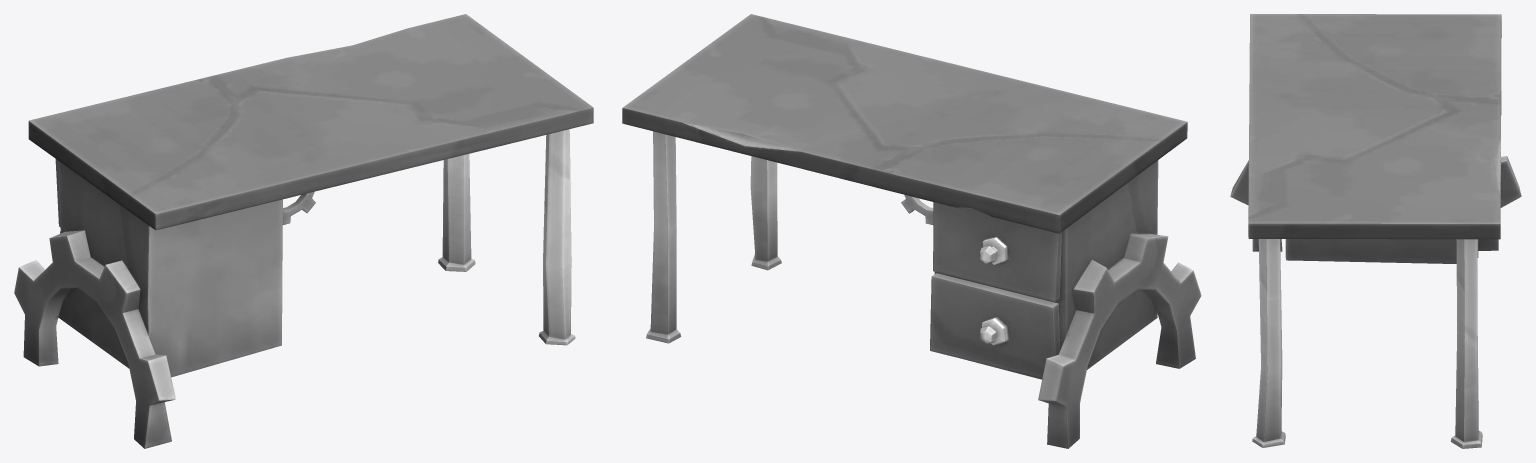
Rendered from obj_table01_alt.gltf.
3 views of the same model, side by side, from view 1: azimuth 30°, elevation 25°; view 2: azimuth 150°, elevation 25°; view 3: azimuth 270°, elevation 25° (orthographic).
Visible parts, largest first — view 1: obj_table01_alt; view 2: obj_table01_alt; view 3: obj_table01_alt.
Boxes of the visible parts, box(x1,y1,x2,y2) form: obj_table01_alt: box(14, 14, 593, 448); obj_table01_alt: box(622, 14, 1201, 448); obj_table01_alt: box(1230, 14, 1521, 448).
Size of what is drawn, in the model's own units: 2.05 by 1.03 by 1.17.
1 material, 1 textured.
